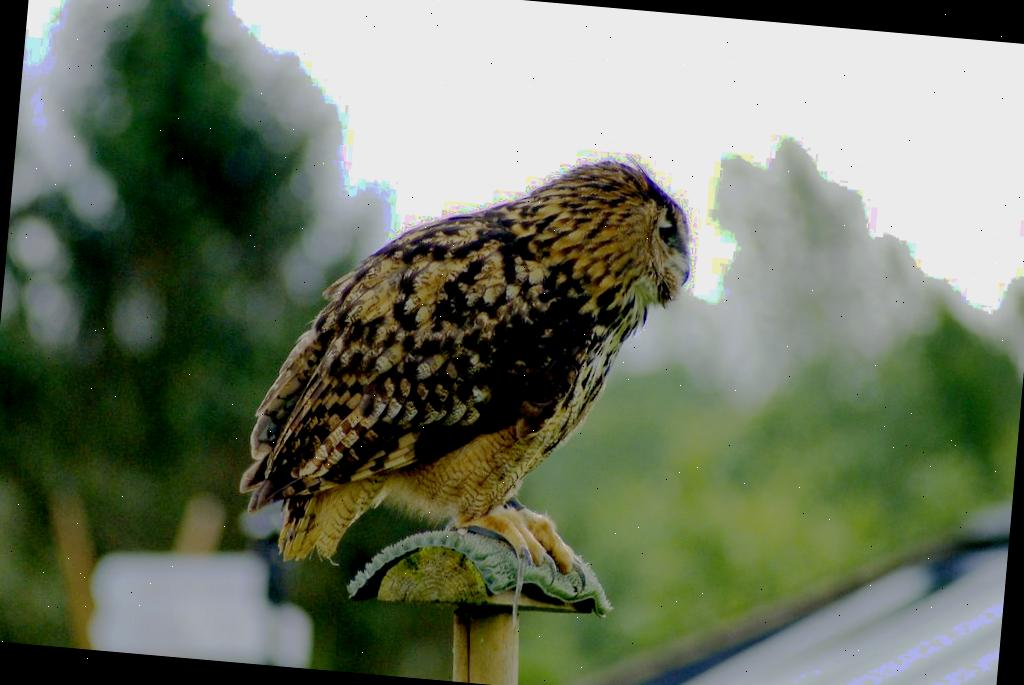Owl: (232, 125, 700, 602)
